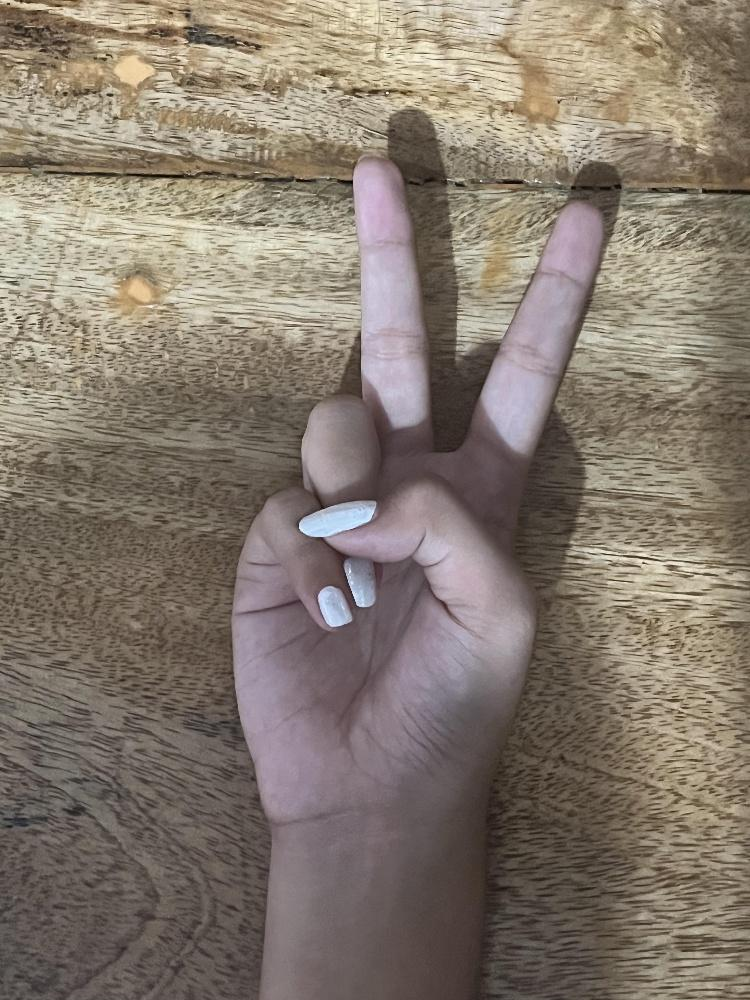v: (225, 151, 605, 823)
